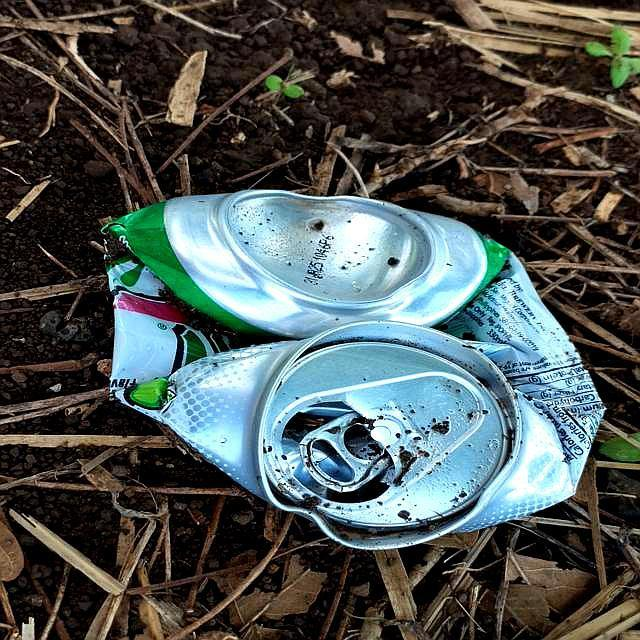Non-biodegradable: (101, 191, 605, 554)
